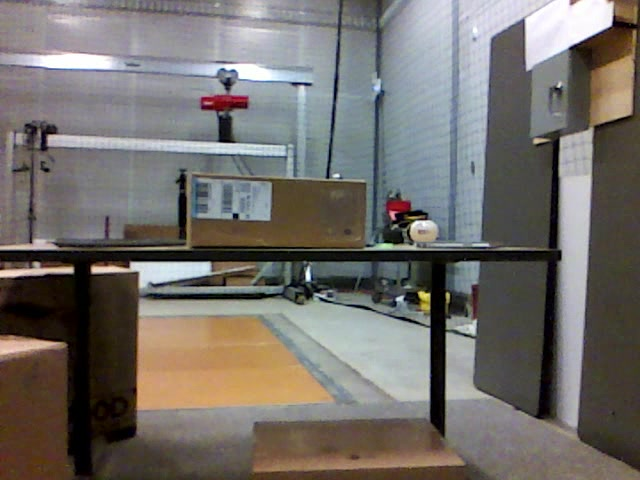box: (1, 265, 135, 437), (189, 175, 368, 249), (254, 421, 466, 480), (1, 336, 70, 480)
